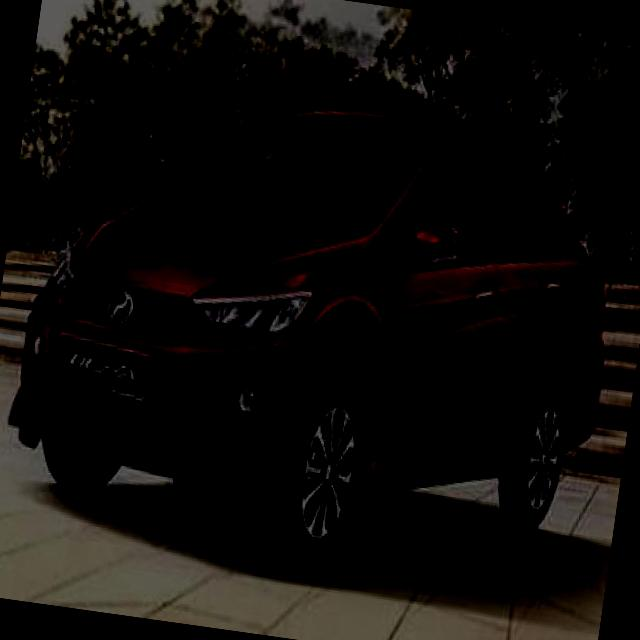PeroduaBezza: (0, 65, 636, 598)
